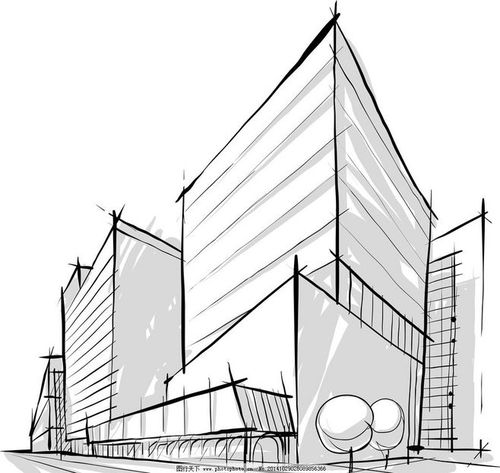buildings: (81, 65, 483, 470), (29, 182, 289, 466)
